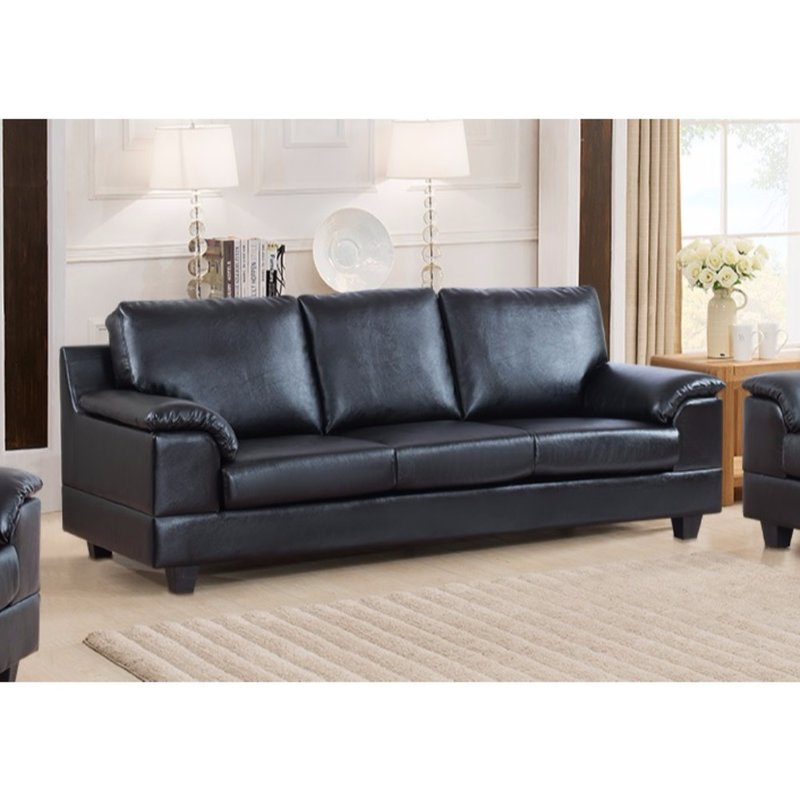chairs: (33, 278, 732, 604)
